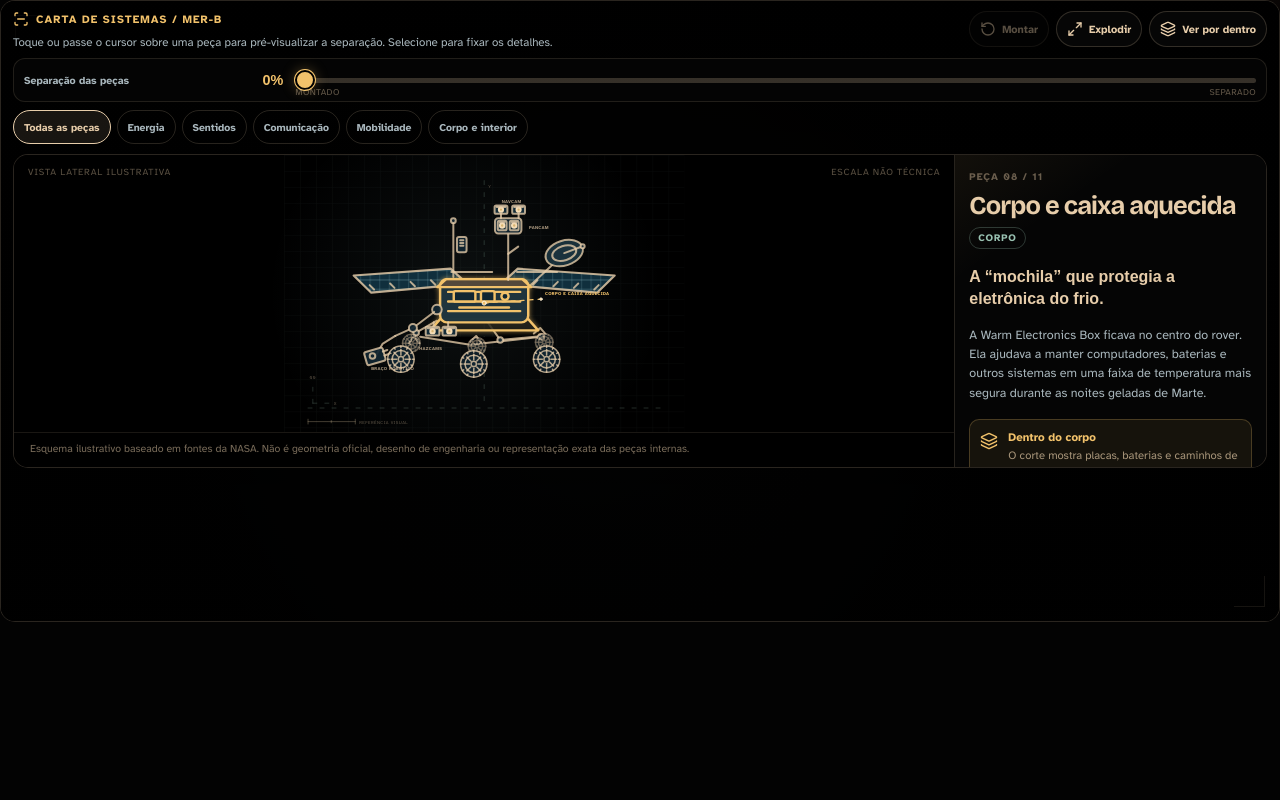
RoverTeardown integration safeguards › keeps the schematic interactive while it is visible
The image size is (1280, 800).
Click the button "Explodir": click(1099, 29) x1=1056 y1=11 x2=1142 y2=47
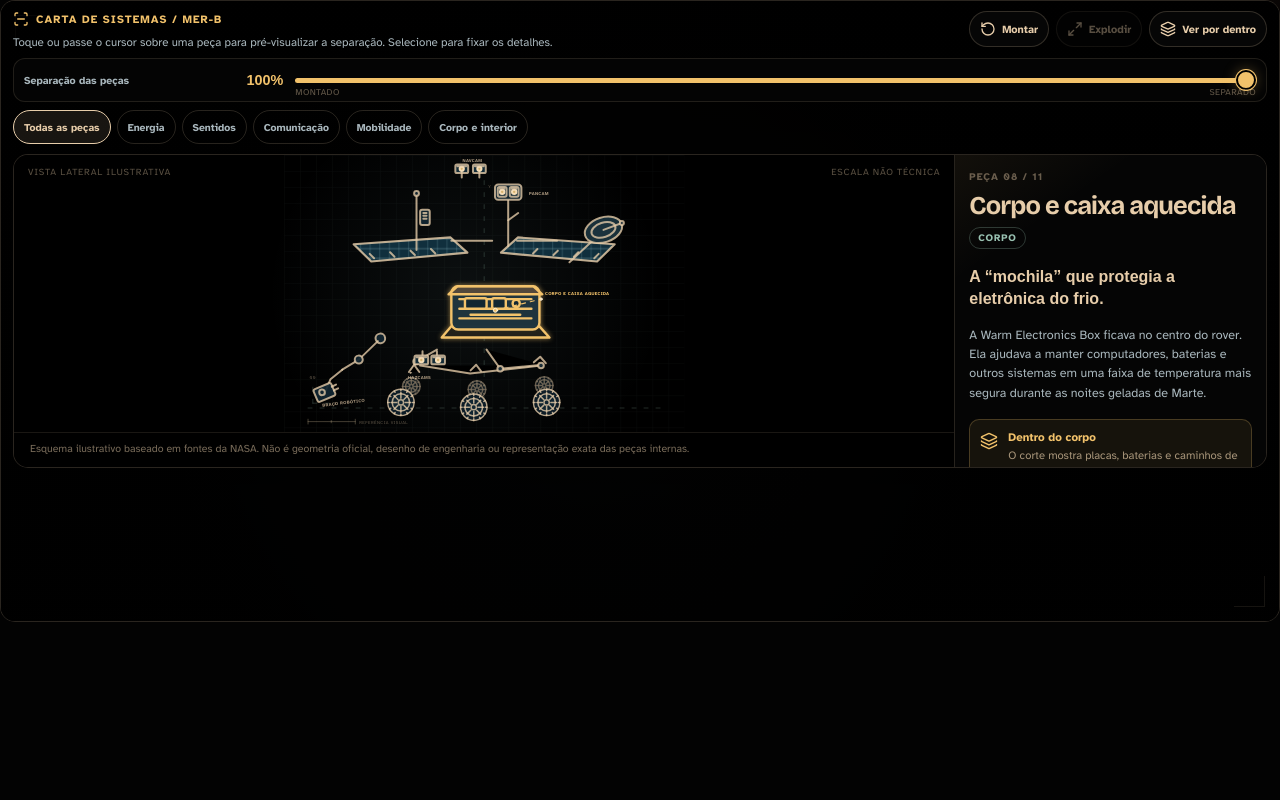
Expected: the text "100%" is shown, x1=246 y1=72 x2=283 y2=88
Set the slider labelled "Separação das peças 100%" to "73": (993, 80) x1=295 y1=63 x2=1256 y2=97
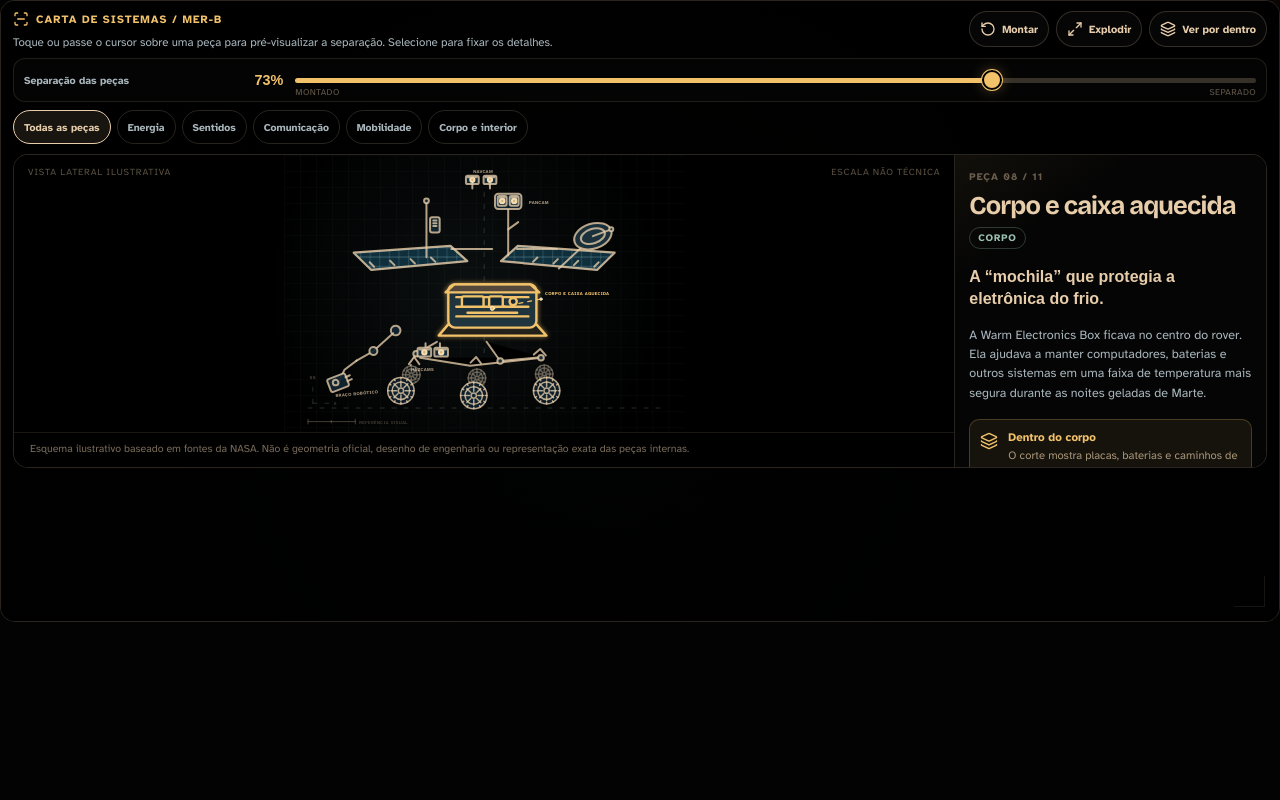
Expected: the text "73%" is shown, x1=254 y1=72 x2=283 y2=88
Click the button "Ver por dentro": click(1208, 29) x1=1149 y1=11 x2=1267 y2=47
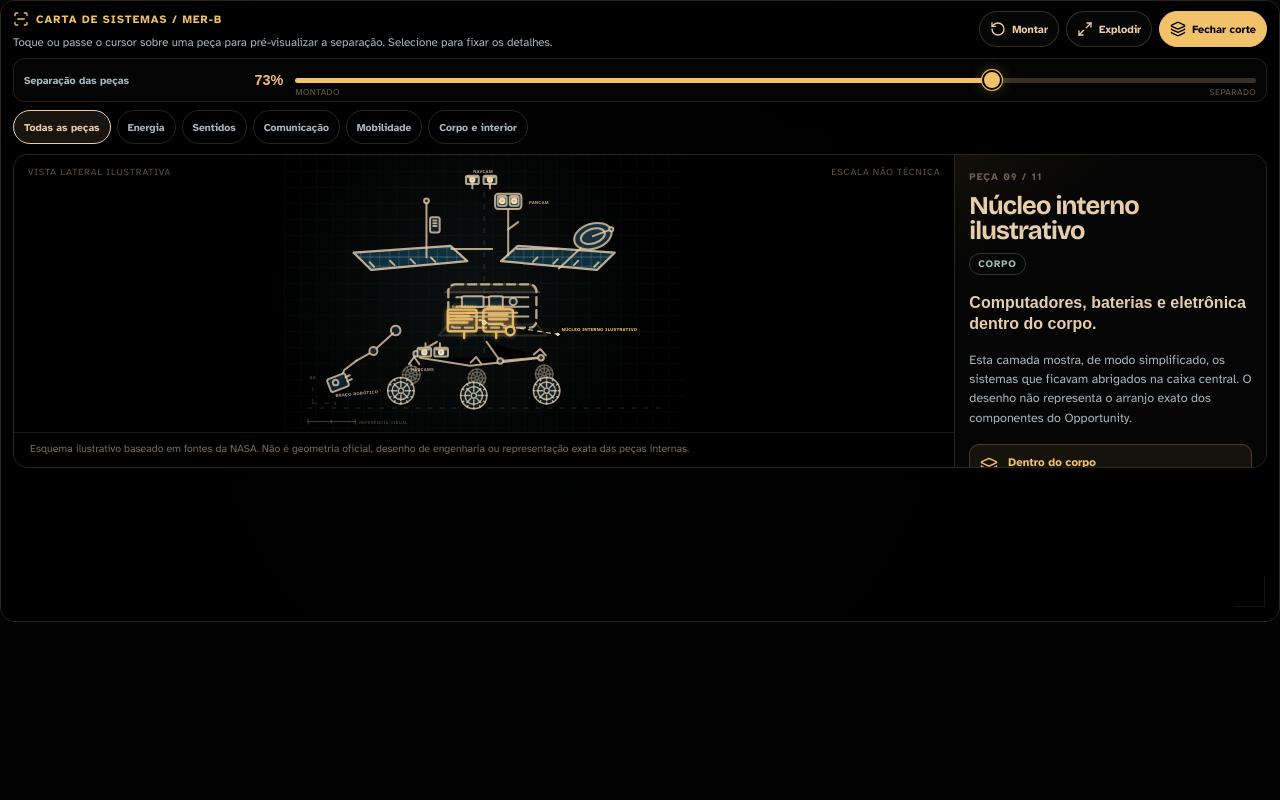
Expected: the element with class "rover-schematic" has class "is-cutaway"
